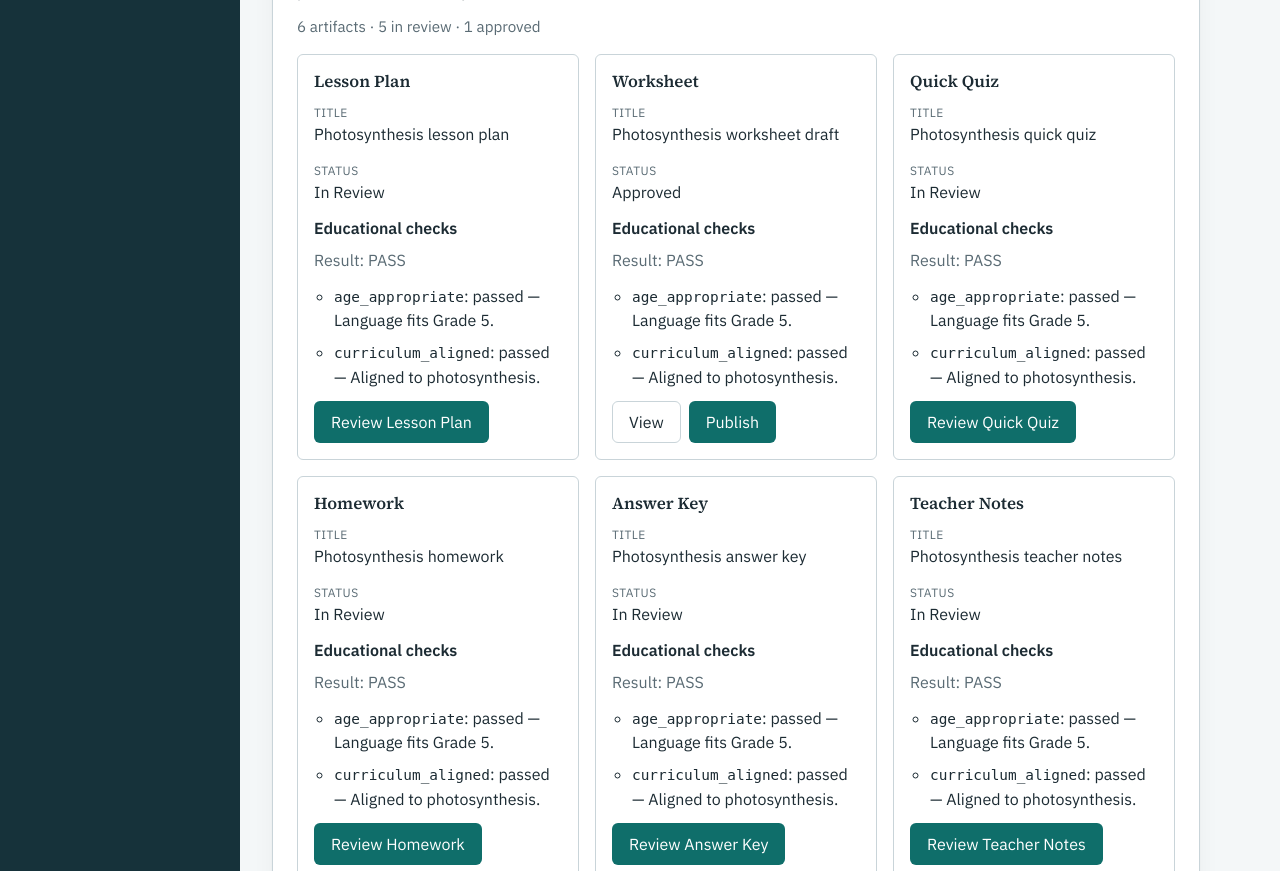
it: TOS-DEV05R1 Work lifecycle UX › 14–15 + R1. Successful publish keeps Work stewardship APPROVED, Content published_version_id drives Published UI; others unaffected
(page scrolled)
Check: the text with test id "work-lifecycle-summary" reads "6 artifacts · 5 in review · 1 approved", box top-left (297, 16), bottom-right (541, 36)
Click the button "Publish" at (732, 422), box top-left (689, 401), bottom-right (776, 443)
(page scrolled)
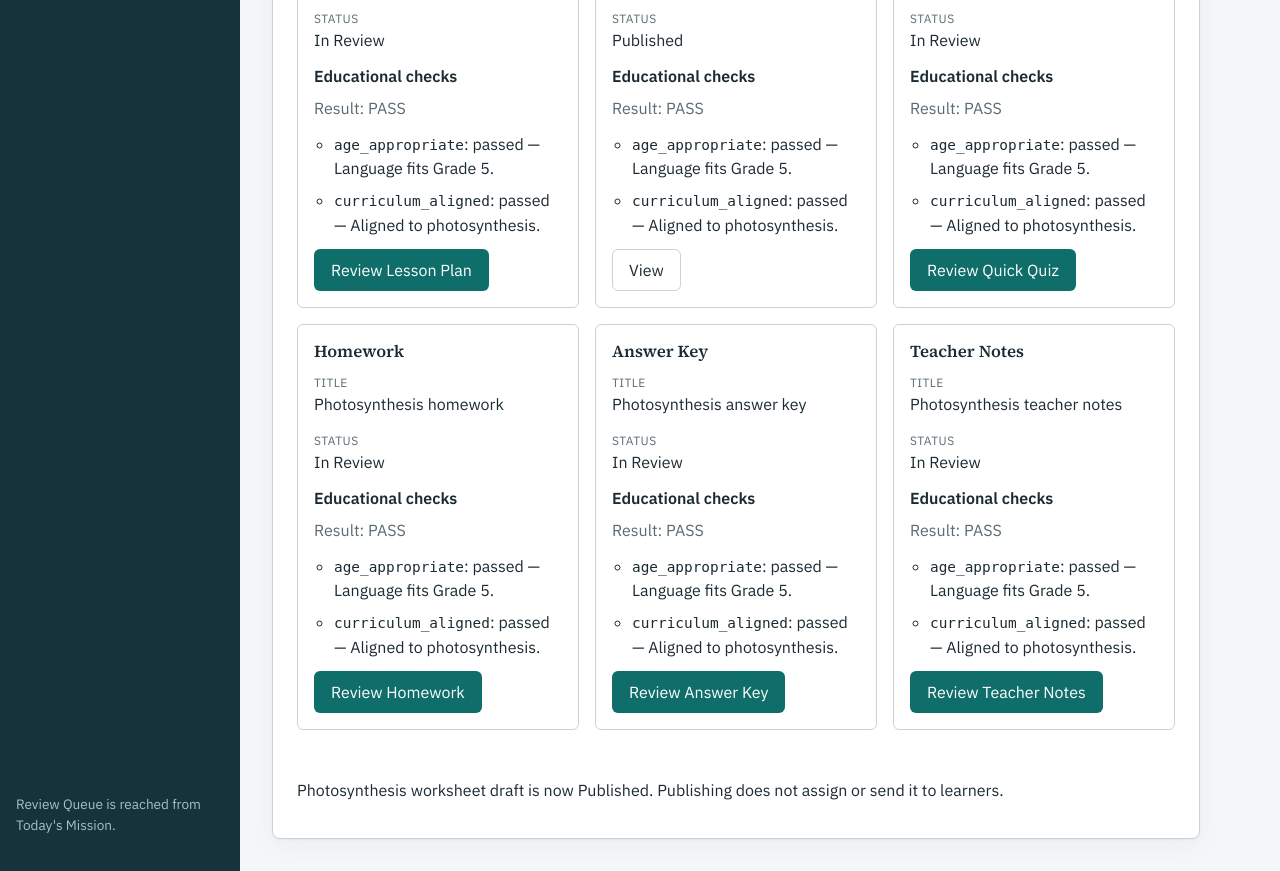
Check: the link "View" is shown, box top-left (612, 249), bottom-right (681, 291)
Check: the element "Worksheet" shows "Published", box top-left (612, 30), bottom-right (683, 50)
